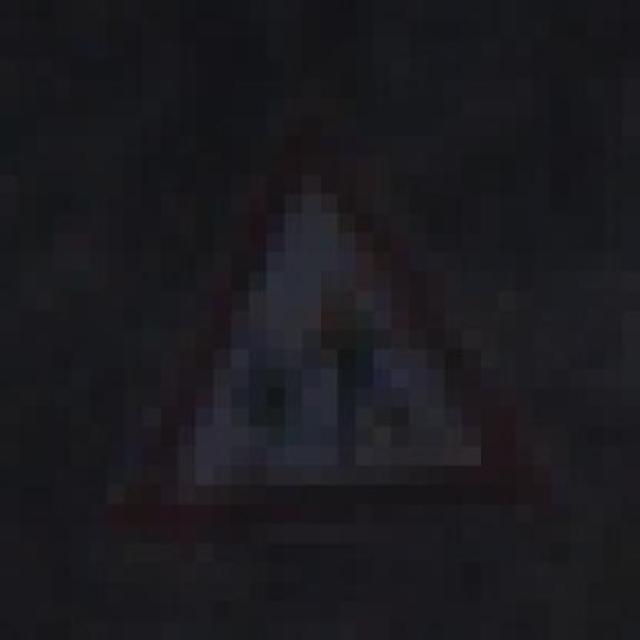Beware of children: (110, 108, 538, 554)
